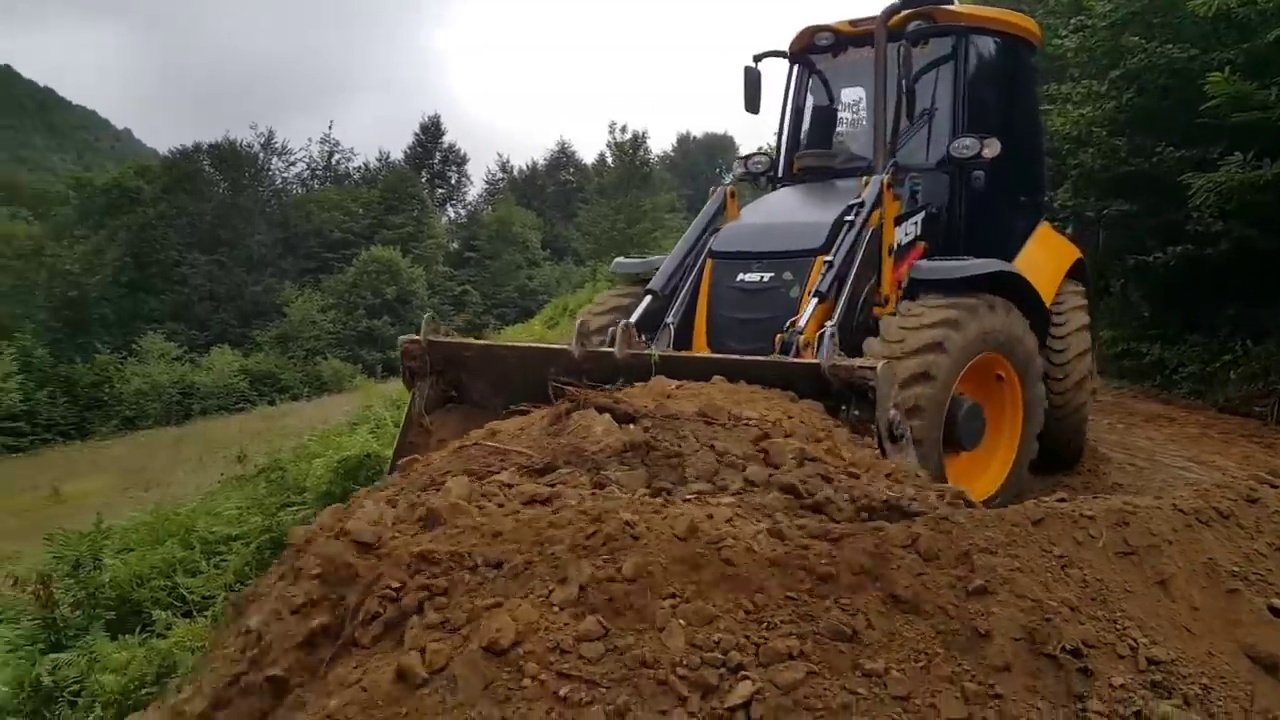wheel loader: (342, 5, 1092, 554)
